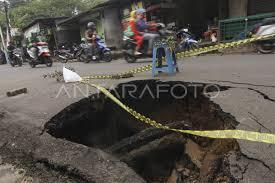Pothole: (30, 75, 268, 182)
